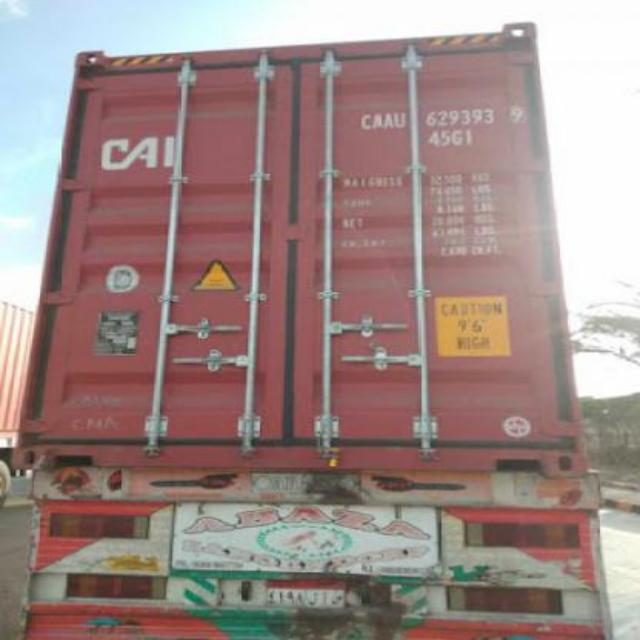2: (436, 106, 448, 128)
3: (482, 104, 494, 130), (460, 104, 470, 128)
6: (424, 108, 436, 128)
9: (470, 104, 482, 128), (511, 104, 524, 125), (448, 106, 458, 128)
A: (370, 108, 382, 132), (382, 108, 394, 132)
C: (356, 108, 372, 132)
U: (392, 108, 404, 132)
